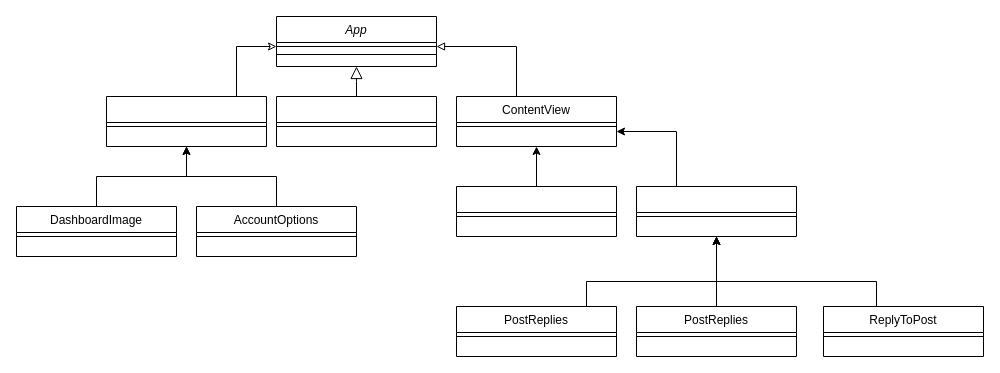
The diagram is 1000 pixels wide and 373 high, and some of its shapes have lost their labels. The centre of each missing label's shape, as x and y in pixels:
CreatePost: pixel 536 211
Header: pixel 186 121
NavigationMenu: pixel 356 121
PostList: pixel 716 211
